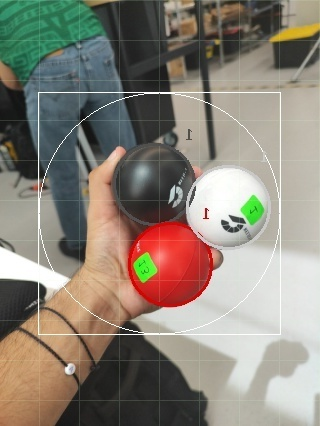Pelota blanca: (186, 161, 273, 248)
Pelota negra: (55, 338, 212, 425), (111, 142, 196, 224)
Pelota roja: (127, 220, 225, 307)
